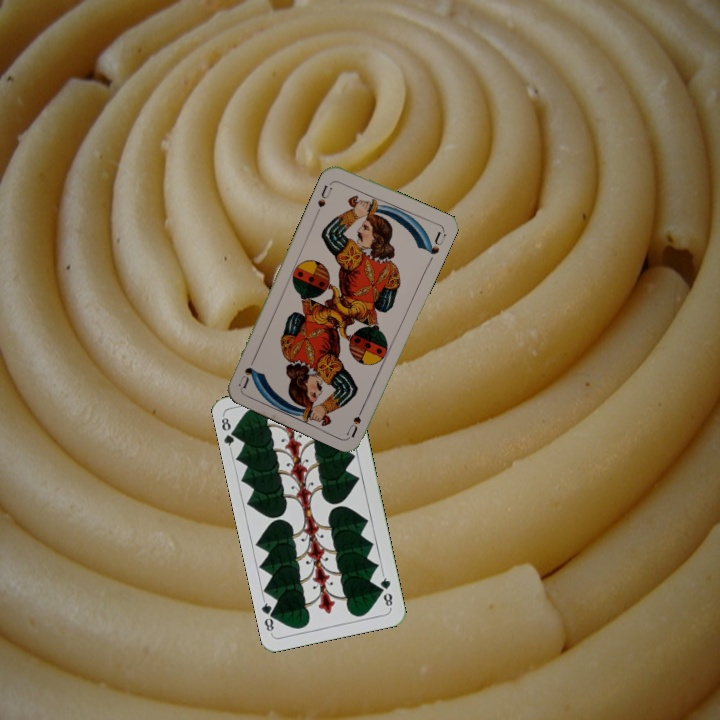G8: (217, 412, 241, 452), (376, 571, 395, 611)
SU: (343, 399, 368, 439), (313, 178, 335, 216)
